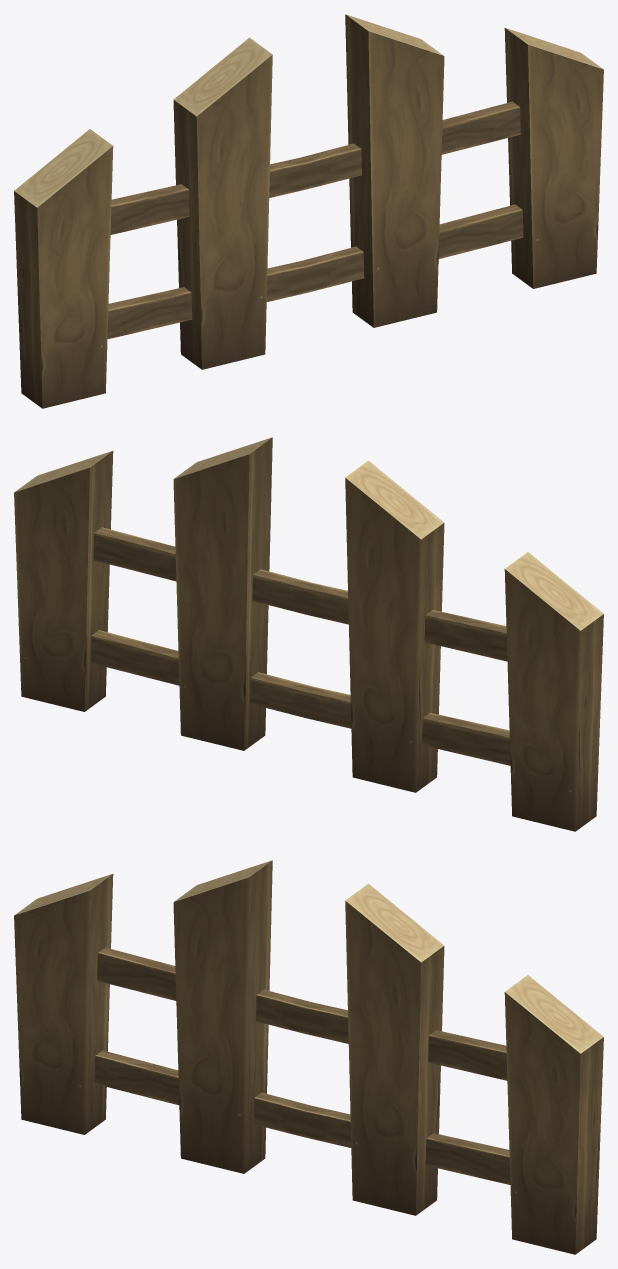
The model's file is wooden_fence_31.fbx.
3 renders of one model, top to bottom at view 1: azimuth 30°, elevation 25°; view 2: azimuth 150°, elevation 25°; view 3: azimuth 330°, elevation 25°, orthographic.
Parts seen in each view (by area): view 1: wooden_fence_31:Mesh; view 2: wooden_fence_31:Mesh; view 3: wooden_fence_31:Mesh.
Part boxes in pixels (x1,y1,x2,y2): wooden_fence_31:Mesh: (14,14,603,408); wooden_fence_31:Mesh: (14,437,603,831); wooden_fence_31:Mesh: (14,860,603,1254).
Size of the model in its own units: 6.22 by 3.14 by 0.4425.
